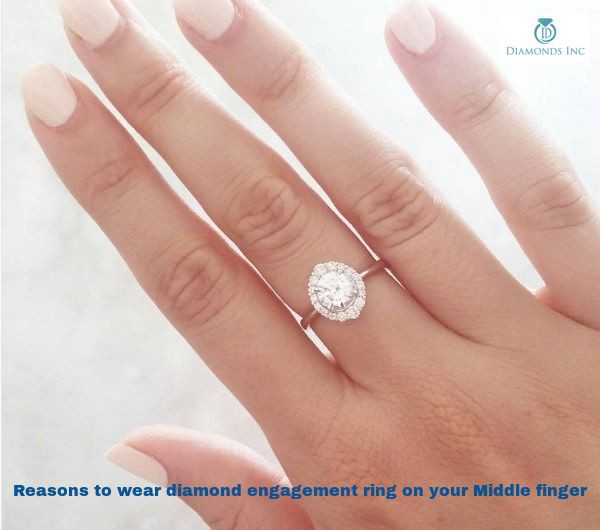finger: (56, 5, 431, 365), (9, 63, 353, 432), (171, 3, 515, 334), (377, 3, 600, 304)
